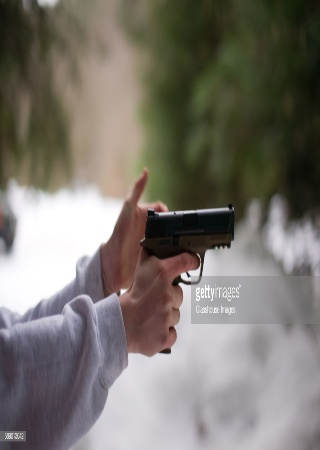handgun: (142, 204, 238, 353)
